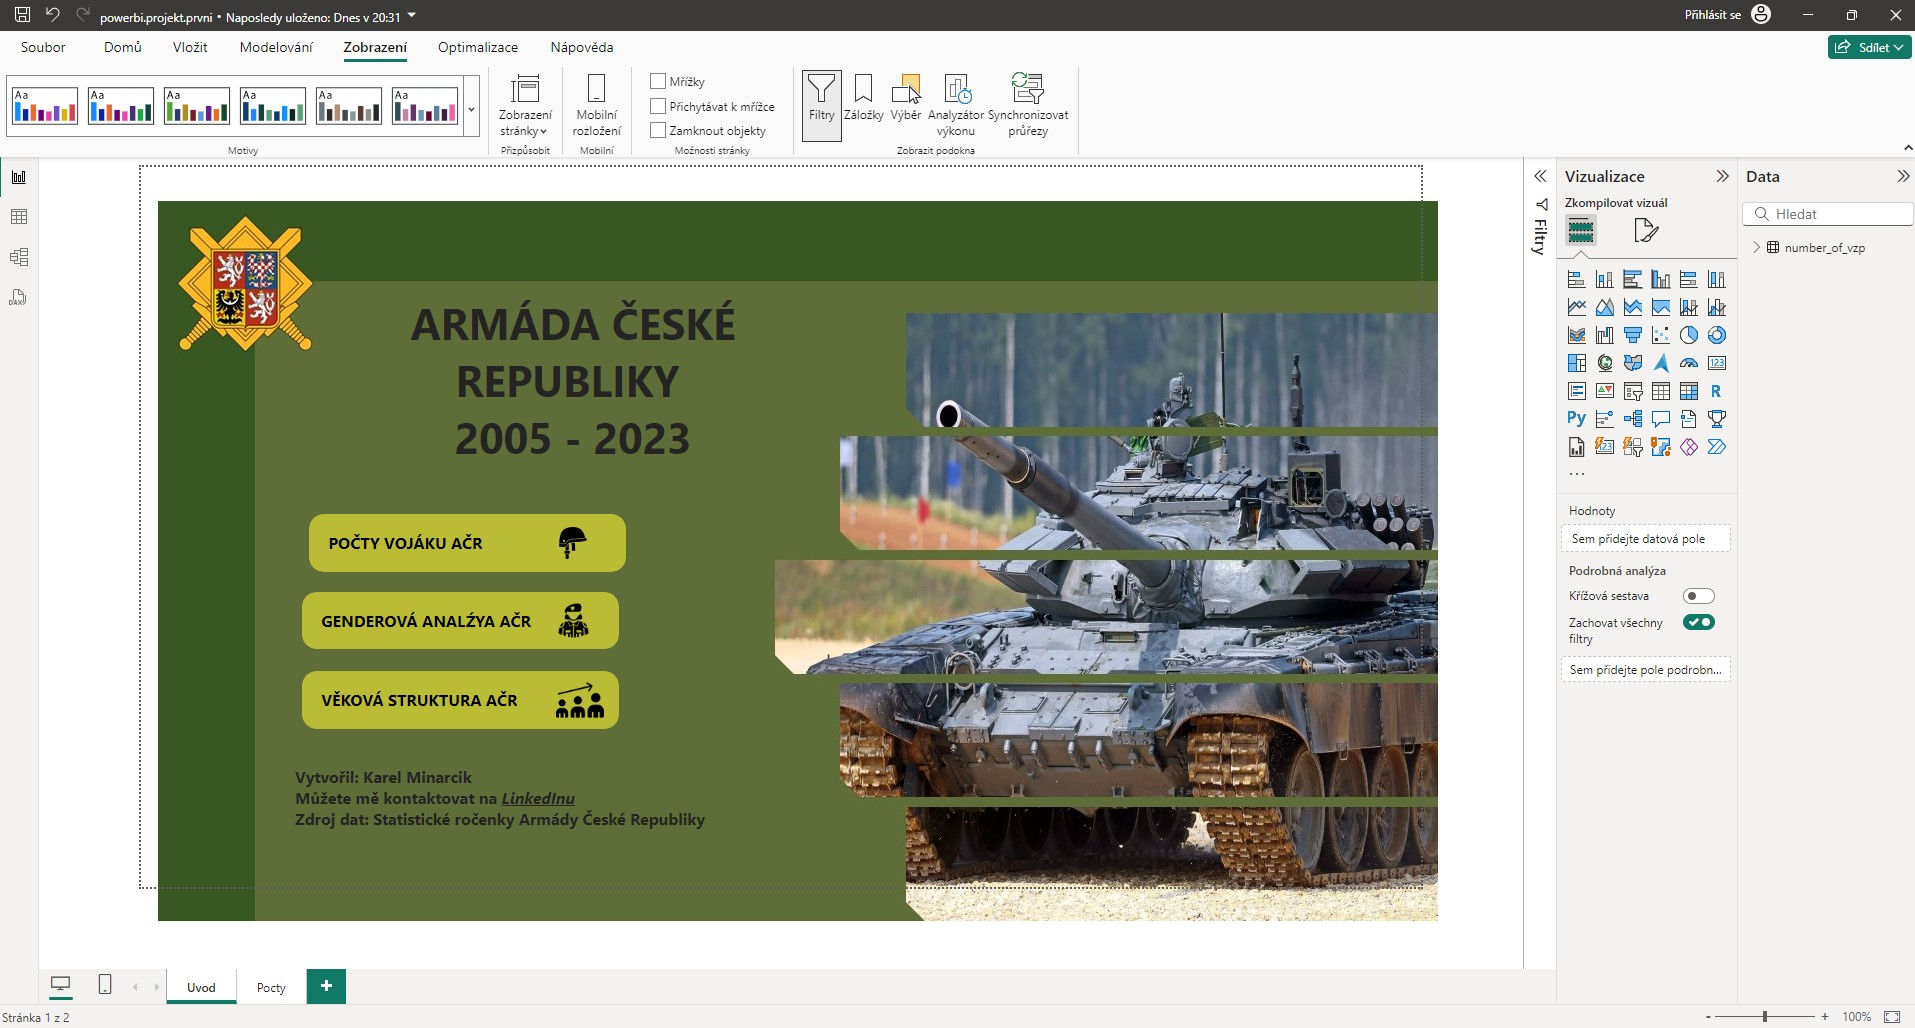

What the dashboard file says about the page in this screenshot:
{"tool":"powerbi","page":{"name":"Domů","canvas":[1280,720],"ordinal":0},"visuals":[{"type":"actionButton","box":[8.4,20.5,118.2,113.4],"z":0},{"type":"actionButton","box":[7.2,205.1,119.4,119.4],"z":1000},{"type":"actionButton","box":[7.2,445.2,120.6,120.6],"z":2000},{"type":"actionButton","box":[8.4,323.3,119.4,119.4],"z":3000}]}

Visuals, with their boxes on the page's 1280x720 design canvas (x1, y1, x2, y2). These are canvas units, not pixel positions in the 1915x1028 screenshot, which may show the page scaled, cropped or inside an application window:
actionButton: bbox(8, 20, 127, 134)
actionButton: bbox(7, 205, 127, 324)
actionButton: bbox(7, 445, 128, 566)
actionButton: bbox(8, 323, 128, 443)
